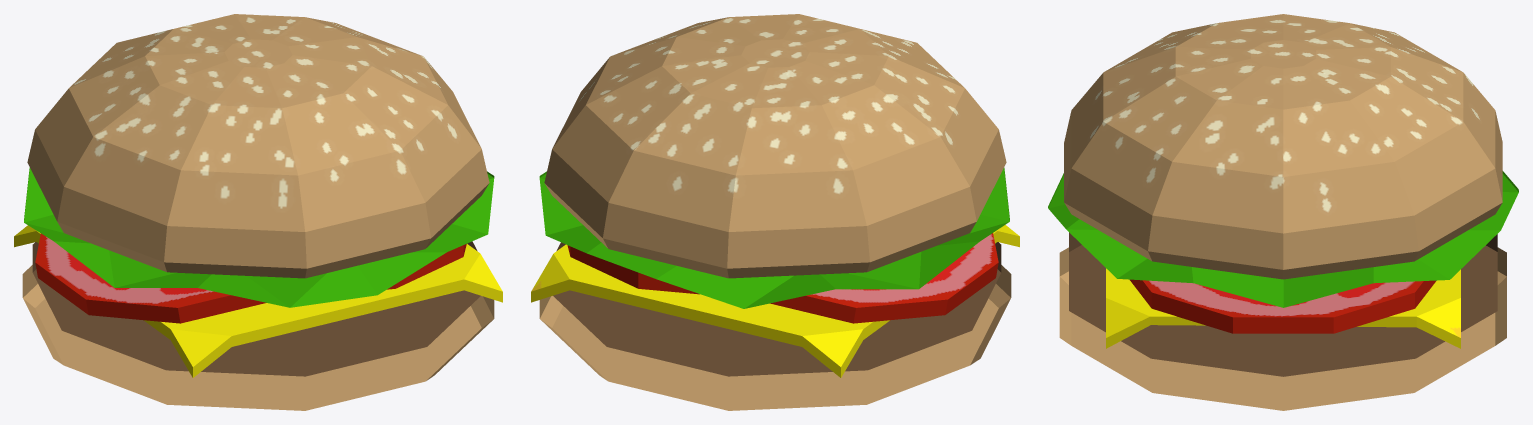
Rendered from cheese burger.glb.
3 renders of one model, left to right at view 1: azimuth 30°, elevation 25°; view 2: azimuth 150°, elevation 25°; view 3: azimuth 270°, elevation 25°, orthographic.
Visible parts, largest first — view 1: buns_Vert.001; view 2: buns_Vert.001; view 3: buns_Vert.001.
Part boxes in pixels (x1,y1,x2,y2): buns_Vert.001: [14, 14, 502, 410]; buns_Vert.001: [531, 14, 1019, 410]; buns_Vert.001: [1048, 14, 1518, 410].
Bounding box in the file's own units: 2.25 × 1.38 × 2.25.
1 material, 1 textured.
